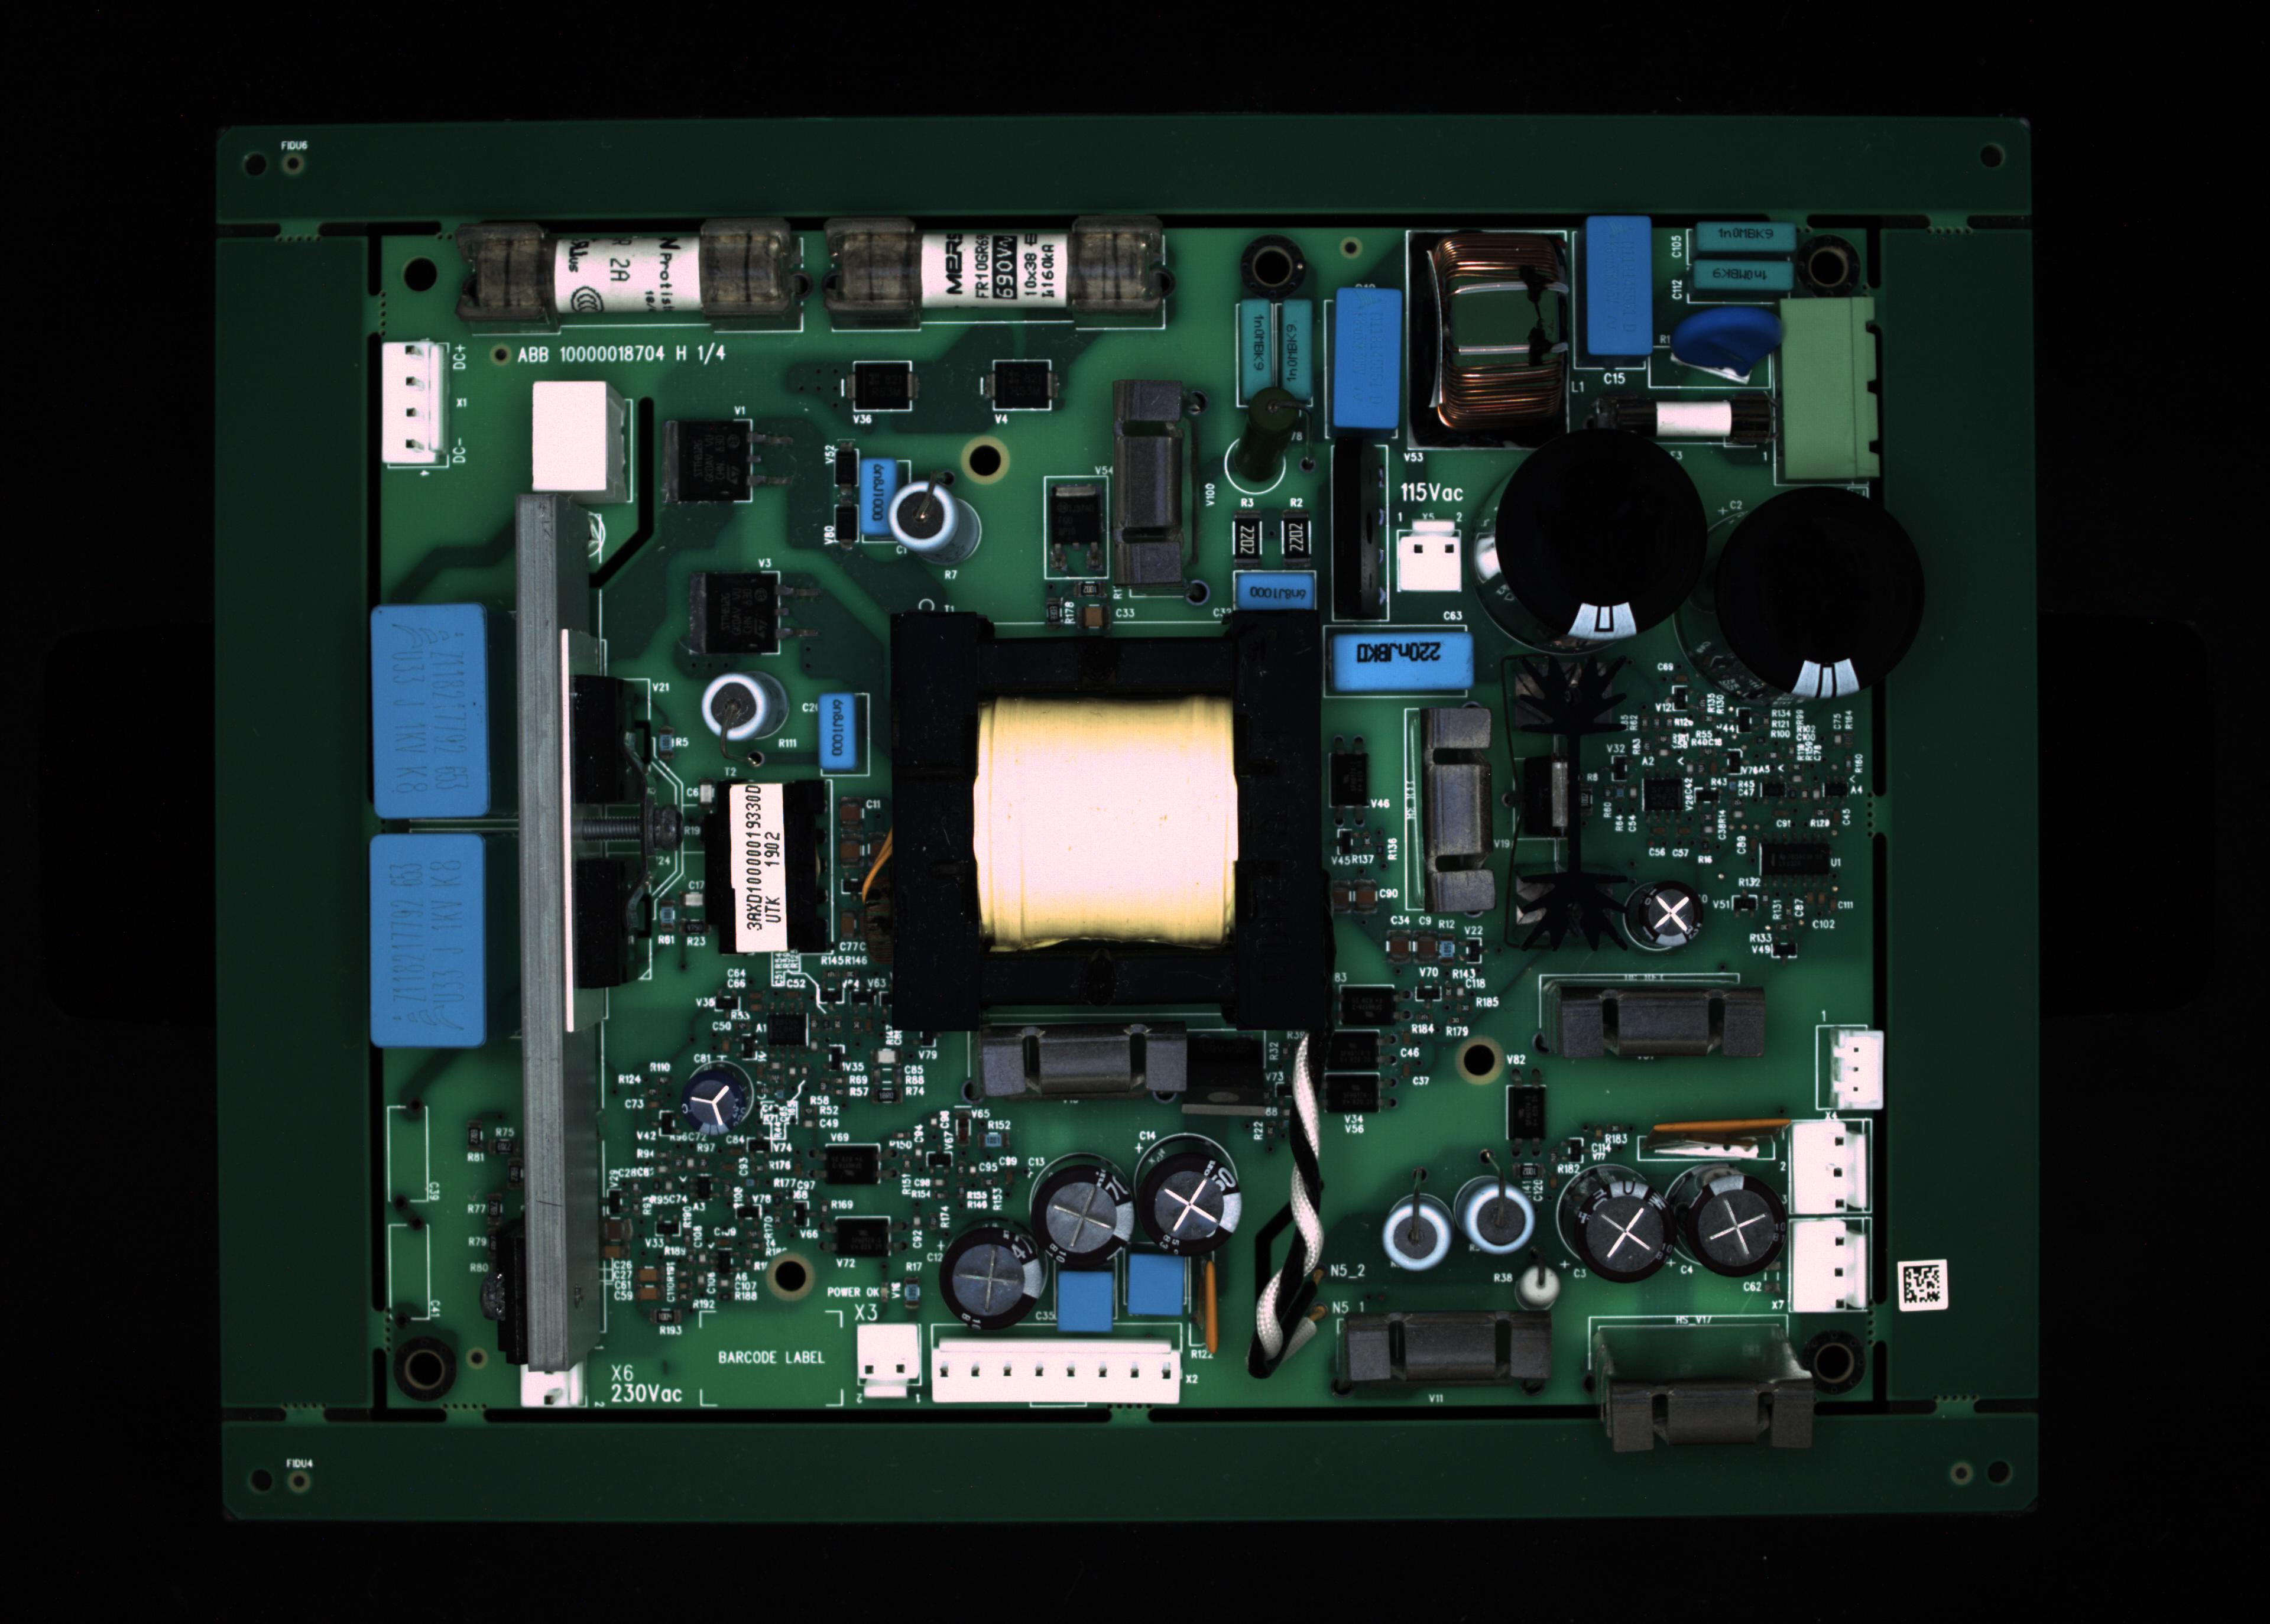10_p: (1648, 346, 1772, 394)
11_q: (1783, 297, 1878, 478)
12_r: (1591, 387, 1776, 455)
13_s: (383, 339, 443, 462)
14_t: (533, 380, 626, 503)
15_e: (862, 459, 893, 531)
16_k: (891, 480, 983, 569)
17_u: (1113, 378, 1189, 584)
18_v: (1240, 569, 1319, 610)
19_w: (1331, 633, 1473, 691)
1_a: (455, 216, 807, 336)
20_f: (1398, 524, 1461, 591)
21_g: (1495, 425, 1711, 634)
22_g: (1711, 485, 1927, 694)
23_h: (371, 603, 484, 816)
24_h: (369, 828, 484, 1049)
25_f: (524, 1362, 582, 1406)
26_f: (856, 1323, 921, 1397)
27_x: (932, 1338, 1192, 1401)
28_i: (1136, 1155, 1236, 1258)
29_i: (1030, 1164, 1134, 1274)
2_a: (819, 216, 1175, 330)
30_i: (939, 1223, 1046, 1332)
31_j: (1055, 1272, 1113, 1330)
32_j: (1125, 1257, 1187, 1315)
33_e: (816, 692, 856, 768)
34_k: (1384, 1190, 1465, 1271)
35_k: (1451, 1174, 1533, 1257)
36_i: (1568, 1178, 1676, 1283)
37_i: (1684, 1172, 1790, 1276)
38_l: (1331, 1318, 1554, 1390)
39_l: (1612, 1381, 1815, 1450)
3_b: (1240, 295, 1275, 402)
40_l: (1539, 977, 1771, 1069)
41_y: (1422, 705, 1496, 910)
42_z: (1832, 1030, 1883, 1109)
43_m: (1793, 1118, 1862, 1214)
44_m: (1793, 1220, 1866, 1311)
45_i: (679, 1070, 747, 1141)
46_n: (1338, 986, 1396, 1026)
47_n: (825, 1146, 883, 1185)
48_n: (833, 1216, 890, 1260)
49_aa: (765, 1011, 807, 1046)
4_b: (1282, 299, 1317, 399)
50_n: (1328, 1032, 1379, 1070)
51_n: (1322, 1076, 1377, 1114)
52_ab: (1329, 749, 1368, 807)
53_ac: (1656, 1130, 1790, 1165)
54_ad: (1194, 1253, 1222, 1364)
55_l: (957, 1021, 1175, 1118)
56_ae: (1176, 1025, 1282, 1132)
57_af: (1509, 647, 1635, 951)
58_i: (1644, 879, 1704, 946)
59_o: (993, 357, 1051, 410)
5_c: (1333, 286, 1400, 424)
60_o: (855, 360, 911, 411)
6_6: (1405, 232, 1572, 452)
7_c: (1588, 218, 1649, 353)
8_d: (1695, 220, 1795, 250)
9_d: (1693, 258, 1792, 292)
